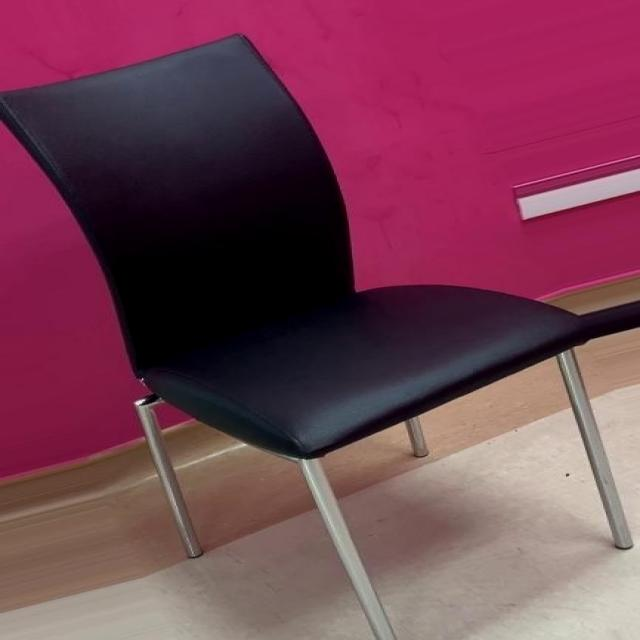Chair: (7, 32, 640, 640)
